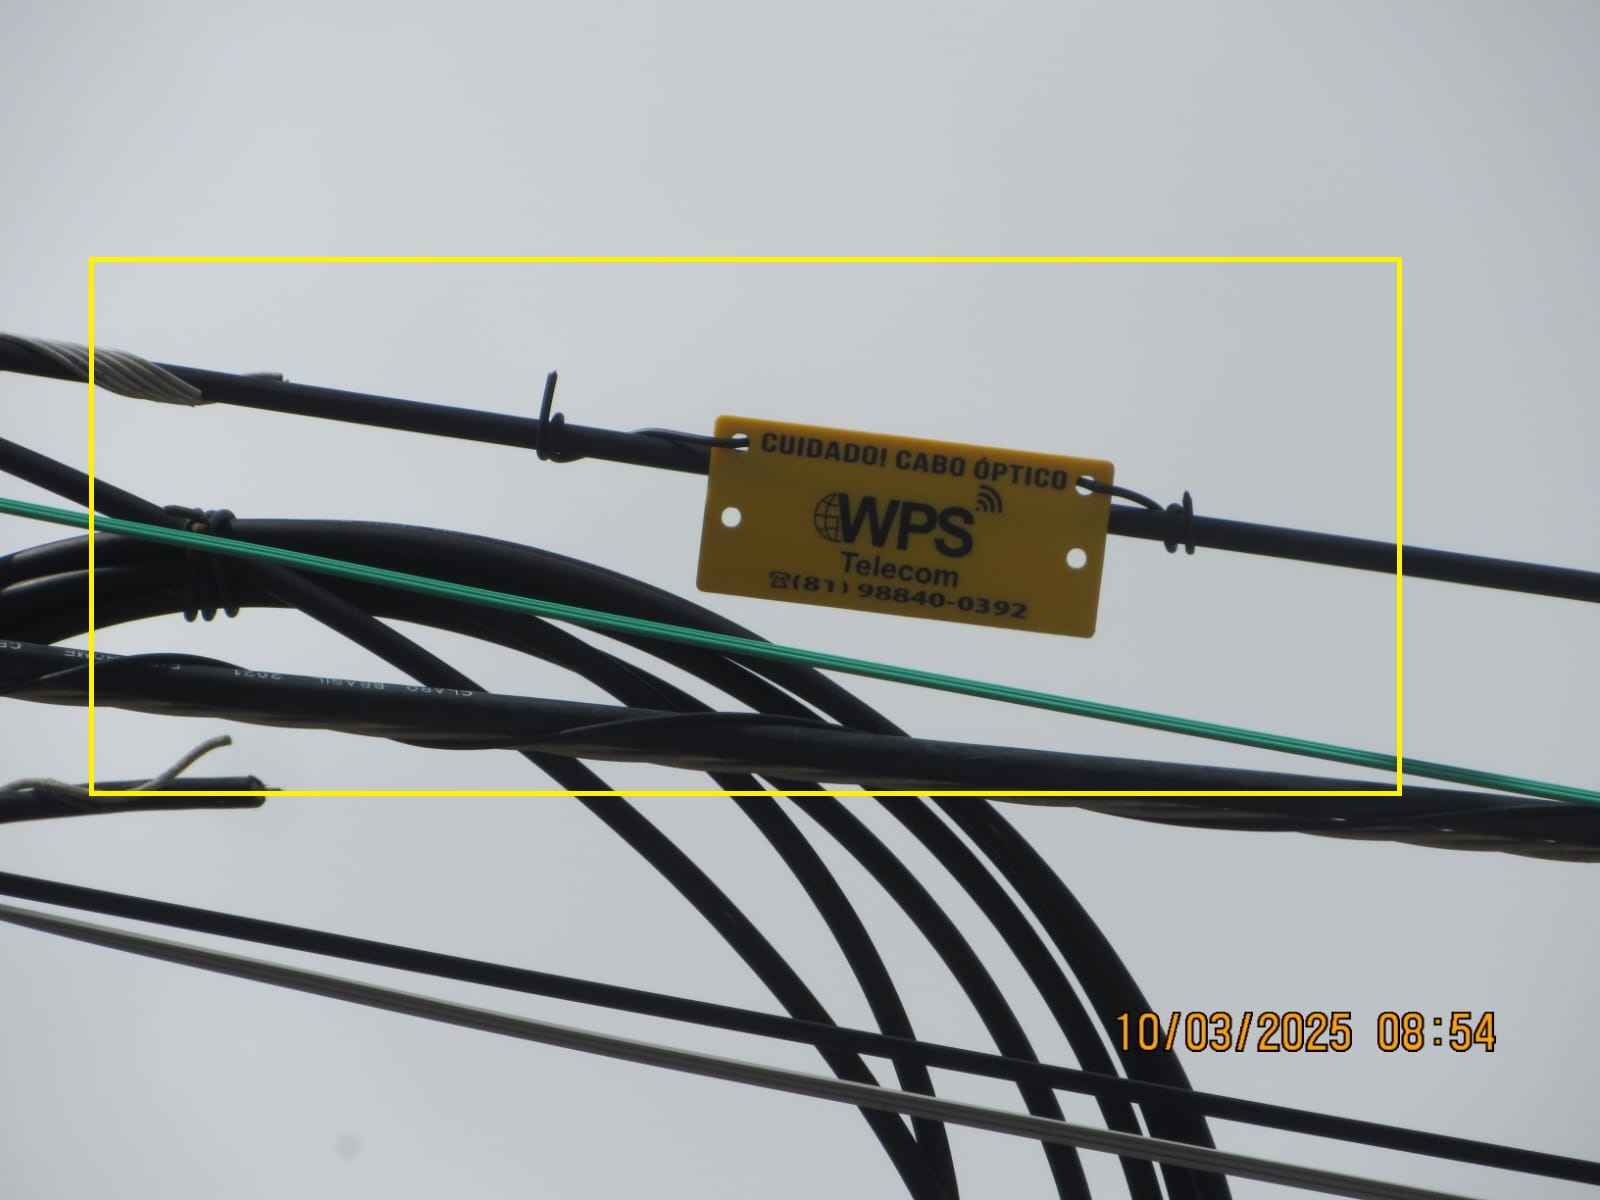fibra_optica: (625, 384, 1154, 649)
